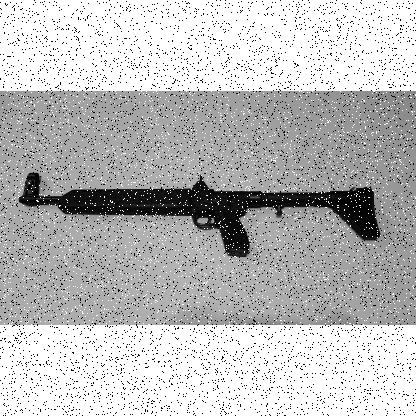gun: (18, 172, 380, 256)
